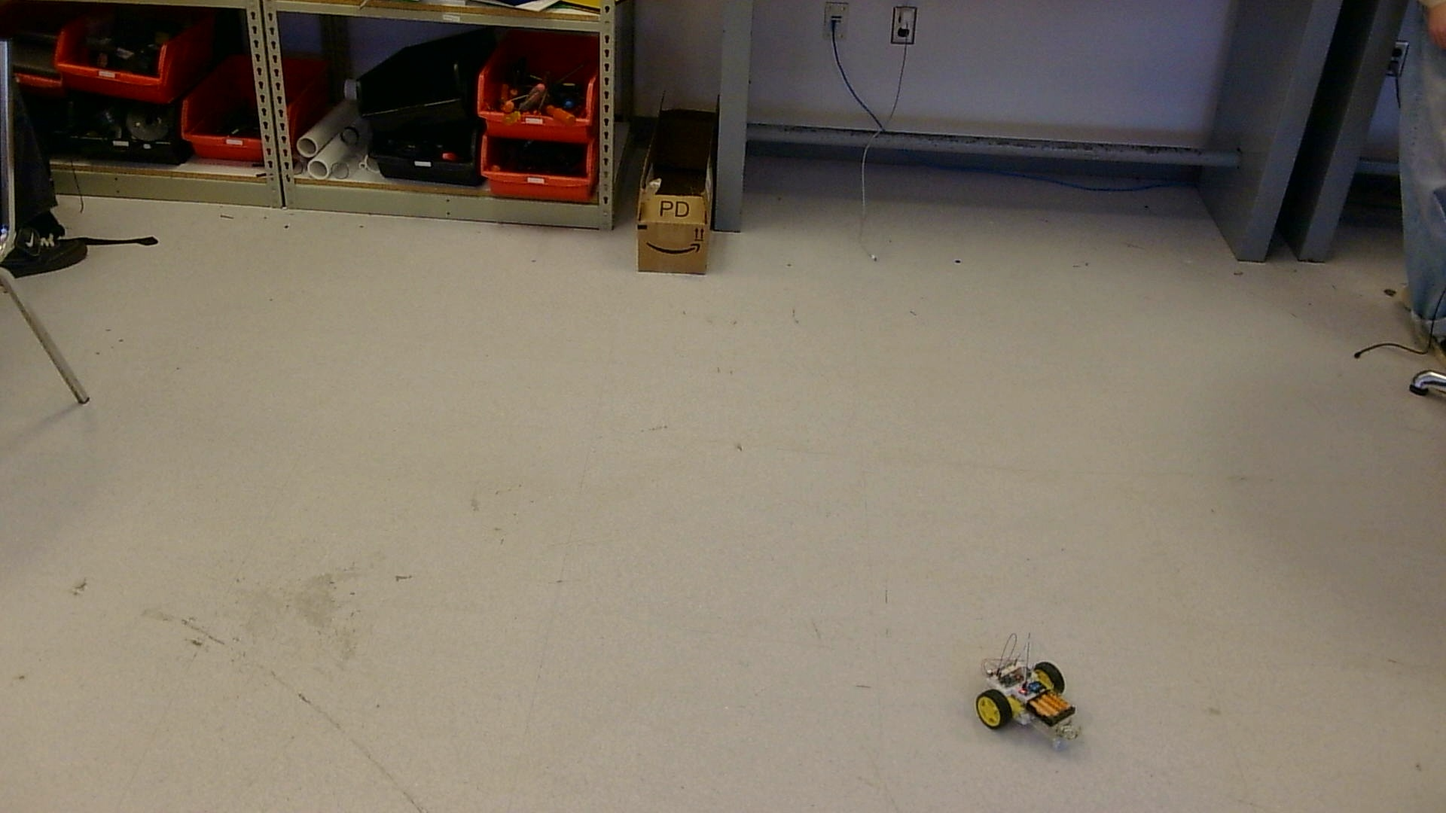robot: (974, 642, 1079, 746)
